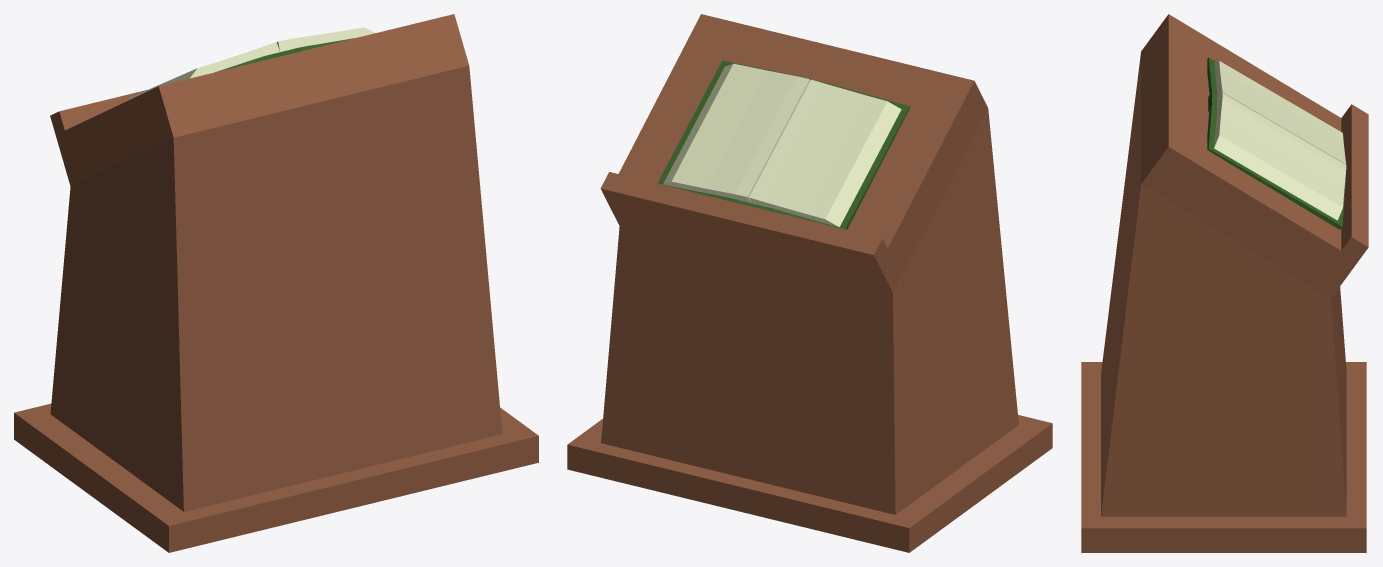
Rendered from CHURCHPULPIT_V1.fbx.
3 views of the same model, side by side, from view 1: azimuth 30°, elevation 25°; view 2: azimuth 150°, elevation 25°; view 3: azimuth 270°, elevation 25° (orthographic). The views are drawn at different scales.
Parts seen in each view (by area): view 1: Cube; view 2: Cube; view 3: Cube.
Part boxes in pixels (box(x1,y1,x2,y2)): Cube: box(14, 14, 538, 552); Cube: box(567, 14, 1052, 552); Cube: box(1081, 14, 1368, 552).
Bounding box in the file's own units: 373 × 407 × 272.
